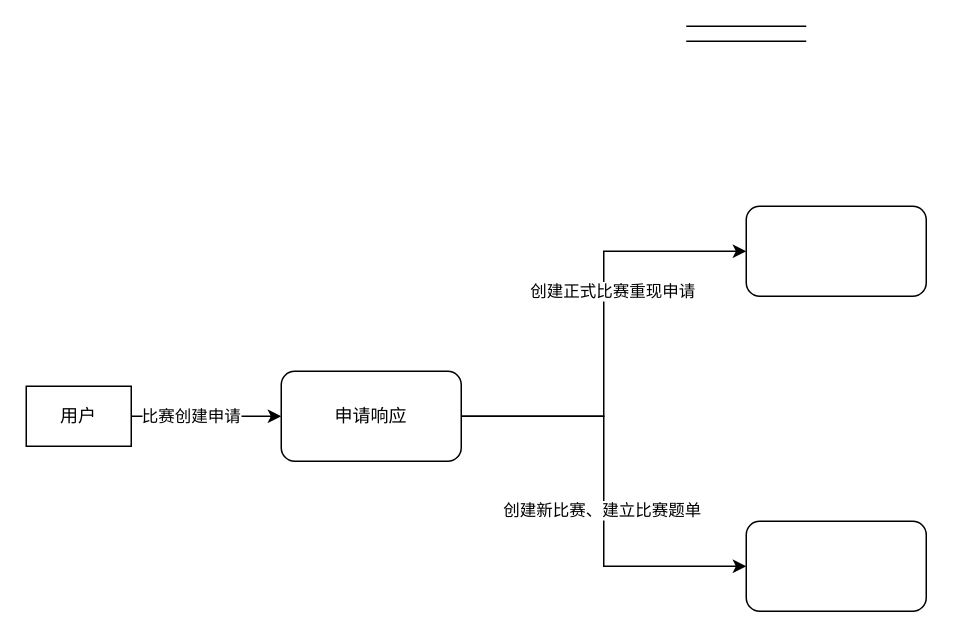
Some shapes in this 953 by 638 pixel diagram are drawn without their labels. The shapes that lost their labels are listed below. From the top down, each one's centre as x and y in pixels, then its label:
[835,250]: 重现赛处理
[835,565]: 新比赛处理
